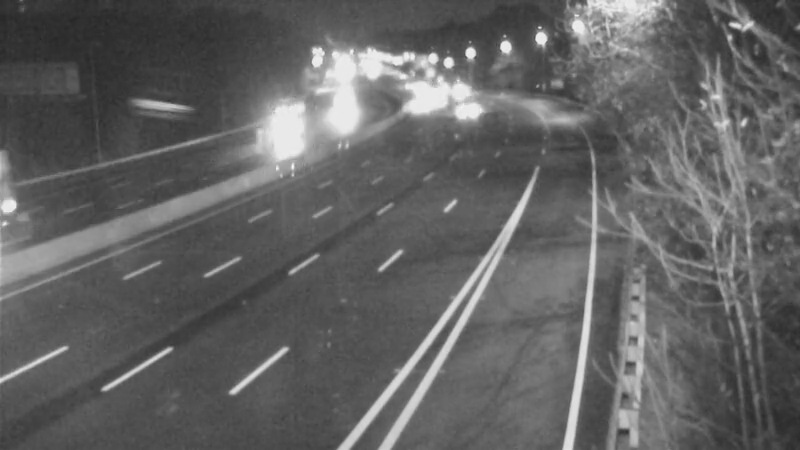vehicle: (1, 179, 66, 259), (406, 71, 456, 121), (440, 85, 490, 135), (266, 100, 316, 150)
